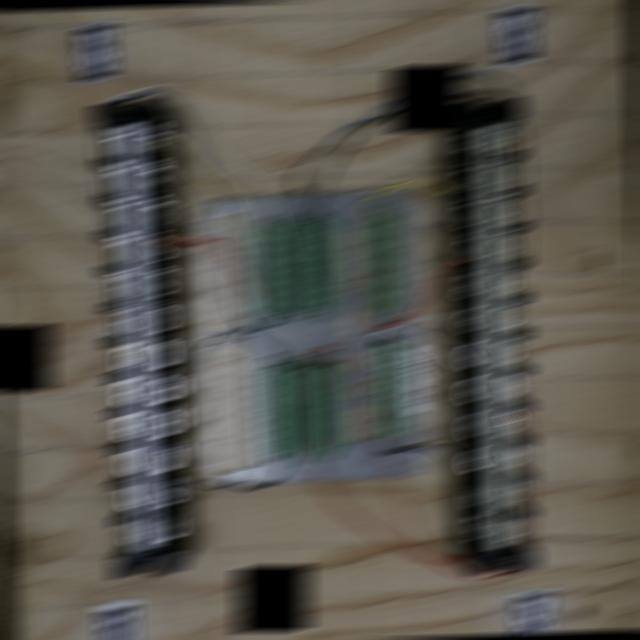Flathead_Block: (452, 100, 538, 571)
Phillips_Block: (91, 101, 183, 574)
Terminal_1: (368, 215, 399, 309), (374, 343, 405, 437)
Terminal_2: (285, 367, 317, 457), (308, 220, 340, 309), (313, 366, 345, 455), (250, 225, 281, 314), (279, 223, 310, 311)
